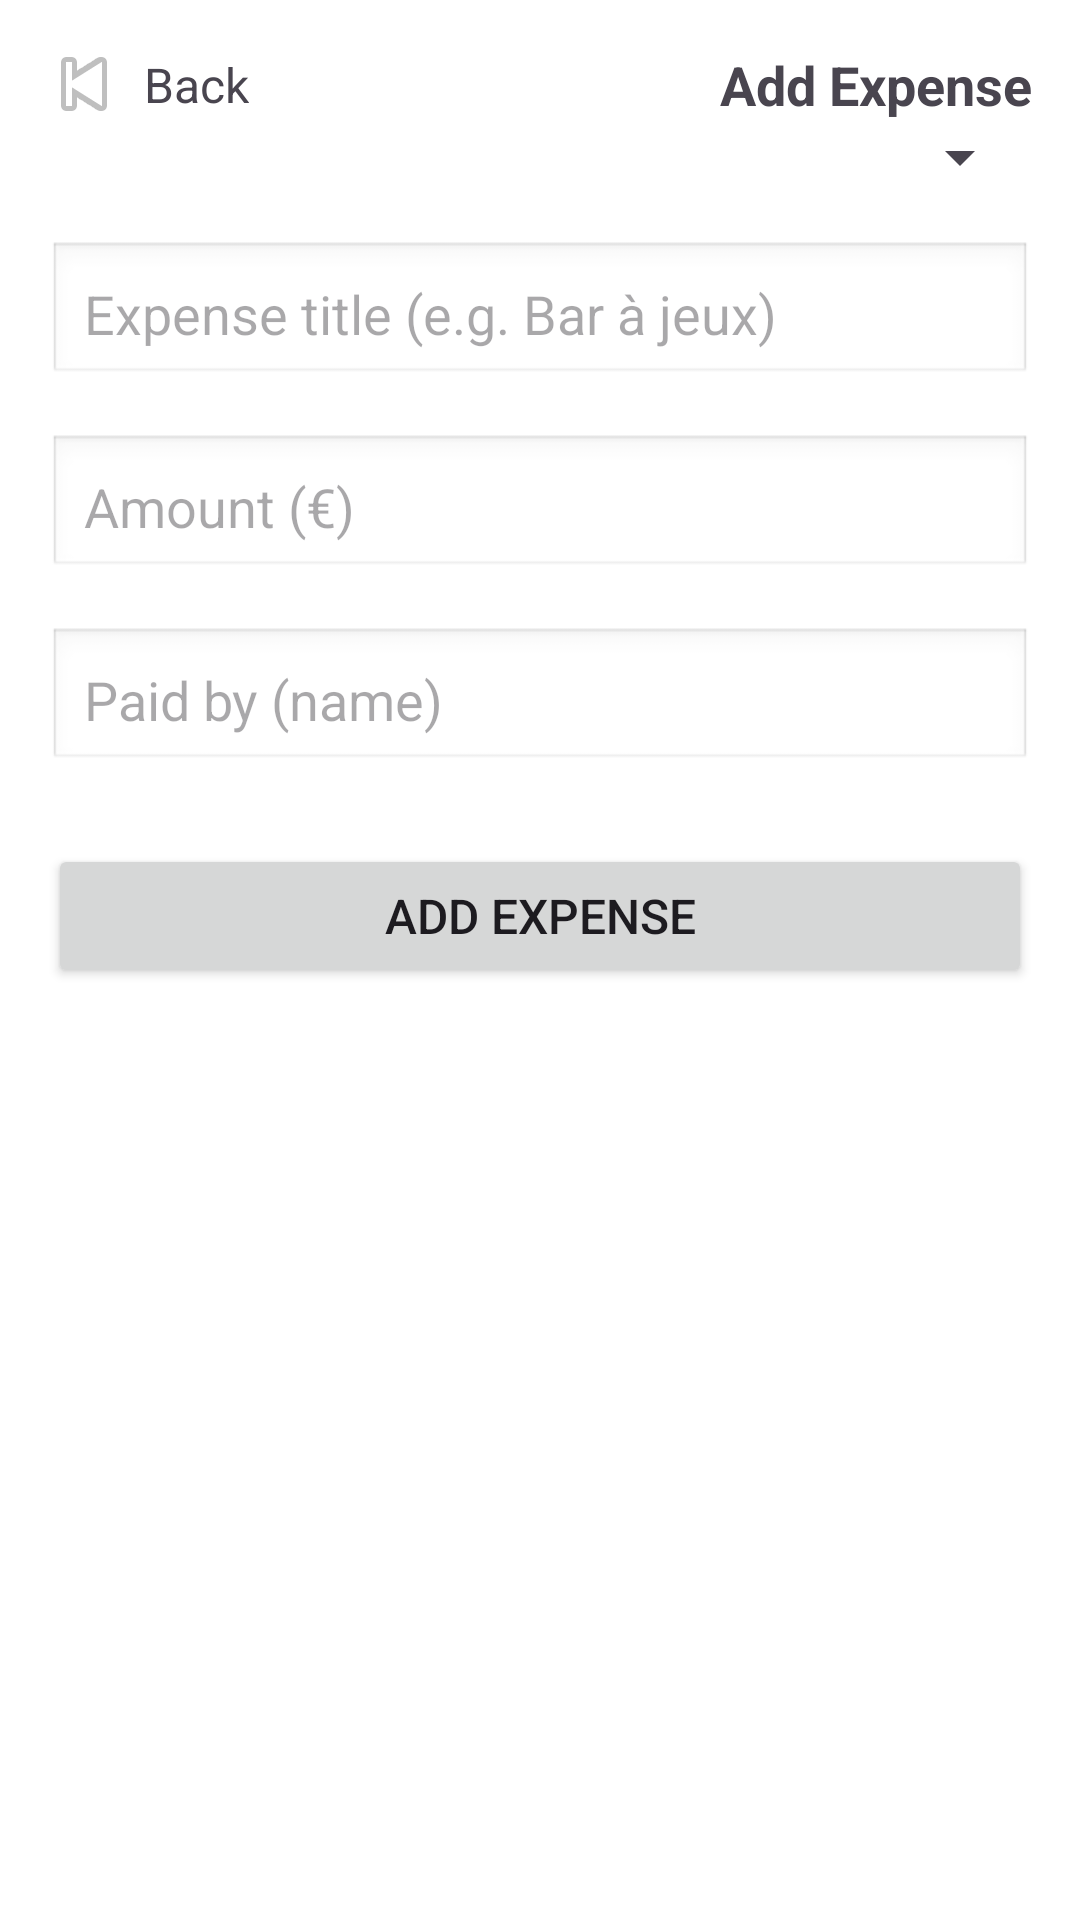

Locate icon controls on the screen. Image size 1080 x 1920, boxes as Rect(x1, y1, x2, y2).
previous: Rect(61, 57, 107, 111)
